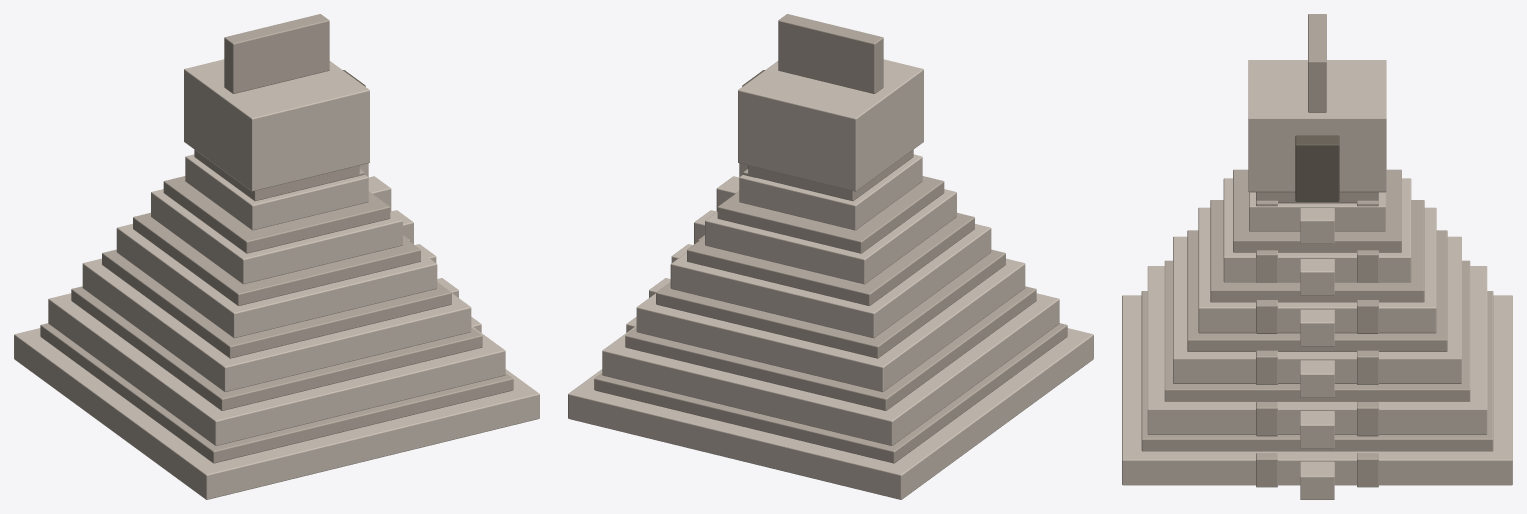
File: mesoamerican.glb
The picture shows the model from 3 angles, left to right: view 1: azimuth 30°, elevation 25°; view 2: azimuth 150°, elevation 25°; view 3: azimuth 270°, elevation 25°; orthographic projection.
Parts seen in each view (by area): view 1: Cube; view 2: Cube; view 3: Cube.
Boxes of the visible parts, x1=… form: Cube: x1=14, y1=14, x2=539, y2=499; Cube: x1=568, y1=14, x2=1093, y2=499; Cube: x1=1122, y1=14, x2=1512, y2=499.
Size of the model in its own units: 6.75 by 6.4 by 6.2.
